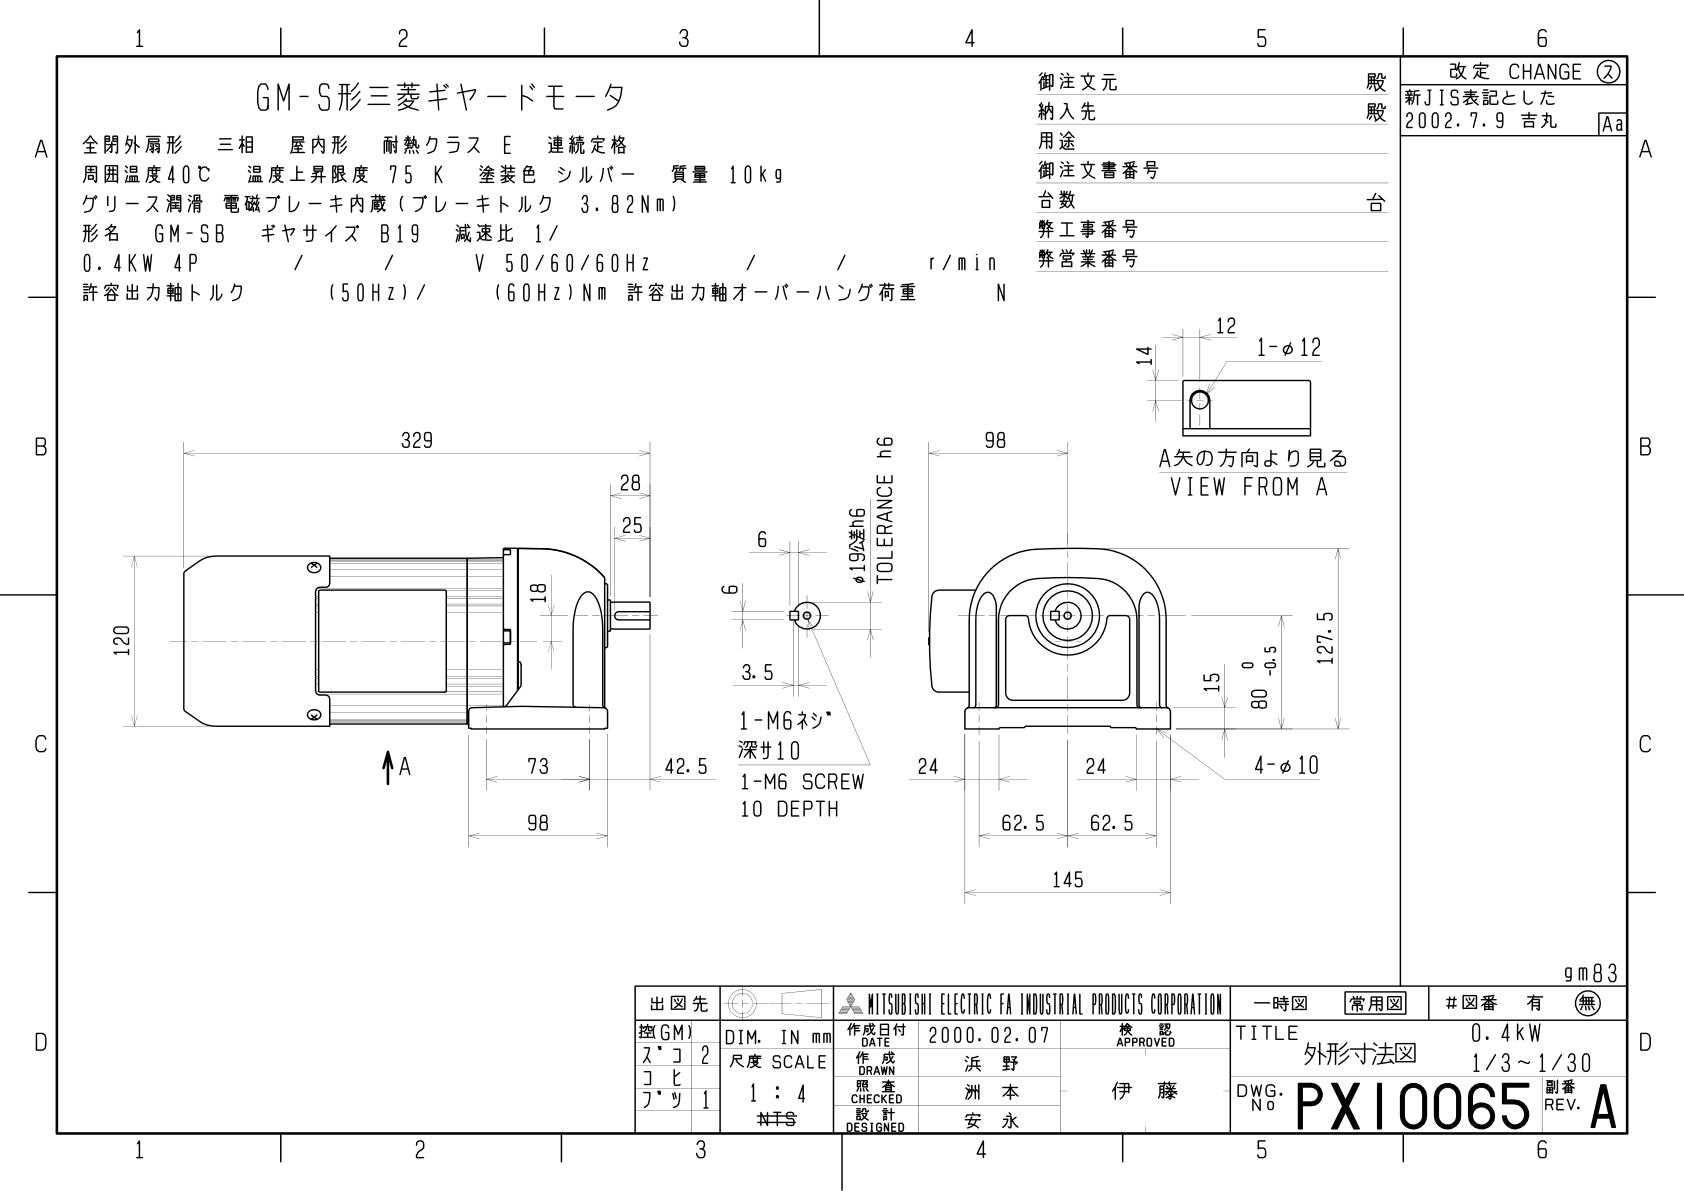GM_S_屋内＿三相_脚: (89, 304, 1379, 941)
